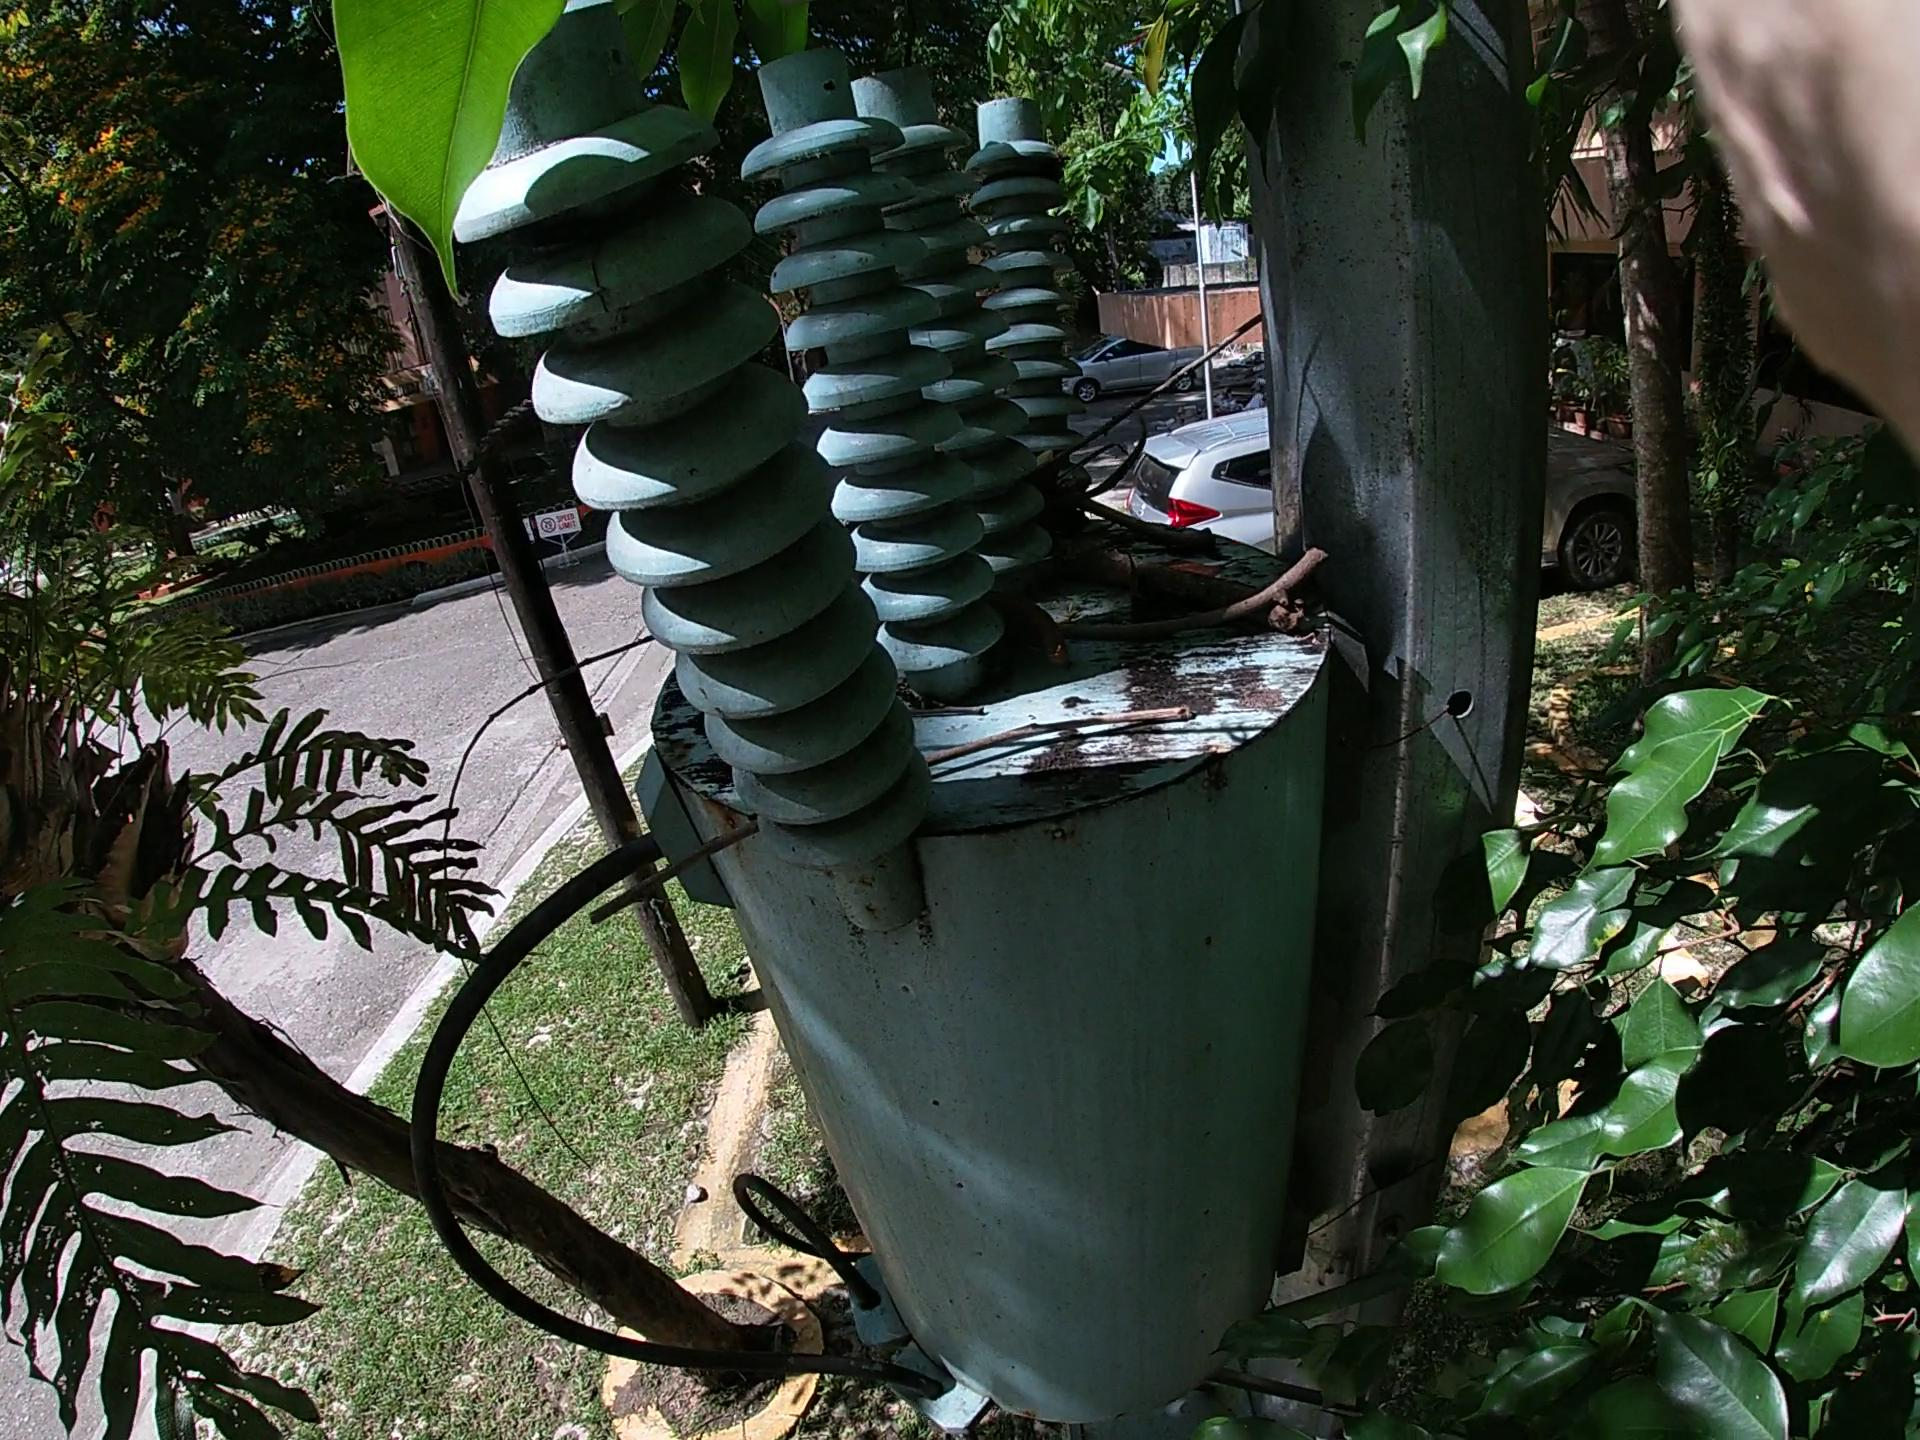branch with leaves: (745, 452, 1318, 646)
leaf: (1138, 529, 1284, 712)
tree branch: (618, 653, 1253, 862), (980, 213, 1330, 495), (1058, 523, 1327, 664), (1042, 442, 1225, 564)
